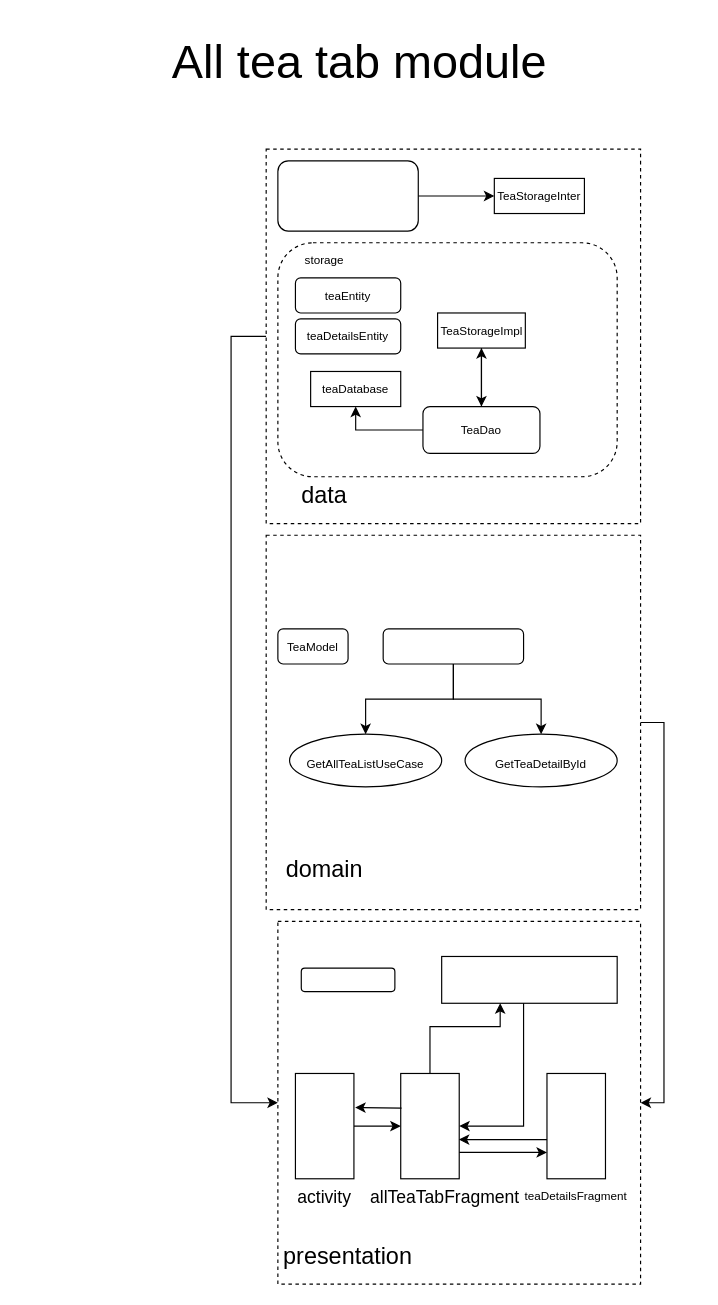
Image size: 718x1305. Some labels were removed from this diagram. Each missing label, with the centre of its shape:
allTeaRvAdapter: point (347, 979)
allTeaTabViewModel: point (529, 979)
TeaRepositoryImpl: point (347, 195)
TeaRepositoryInterface: point (453, 646)
